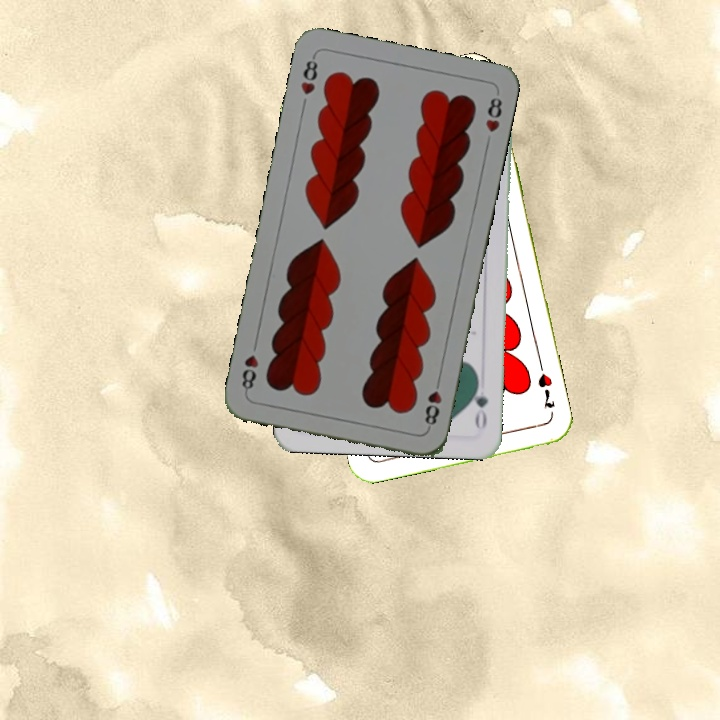GO: (468, 374, 491, 433)
H7: (533, 369, 558, 411)
H8: (421, 373, 444, 432), (296, 51, 321, 97)
